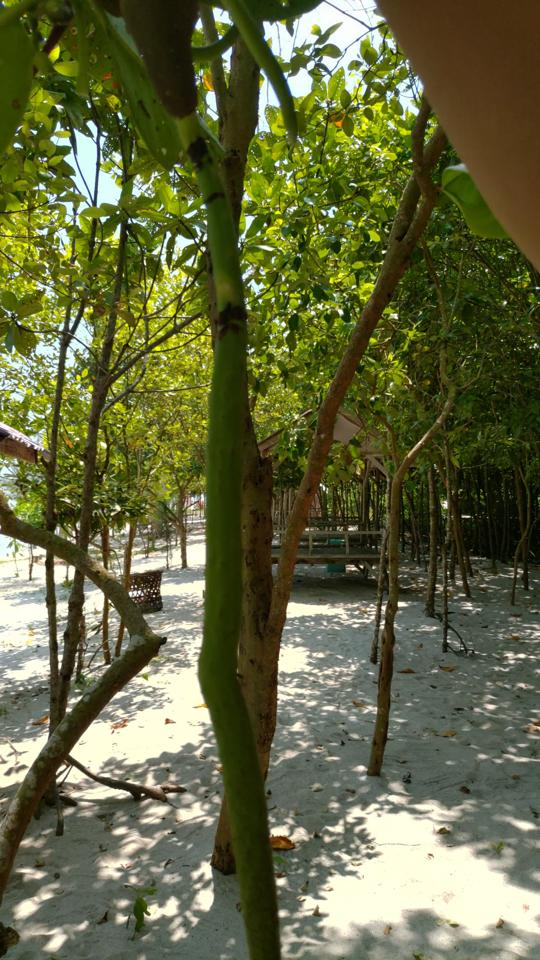setengah matang: (111, 6, 297, 958)
